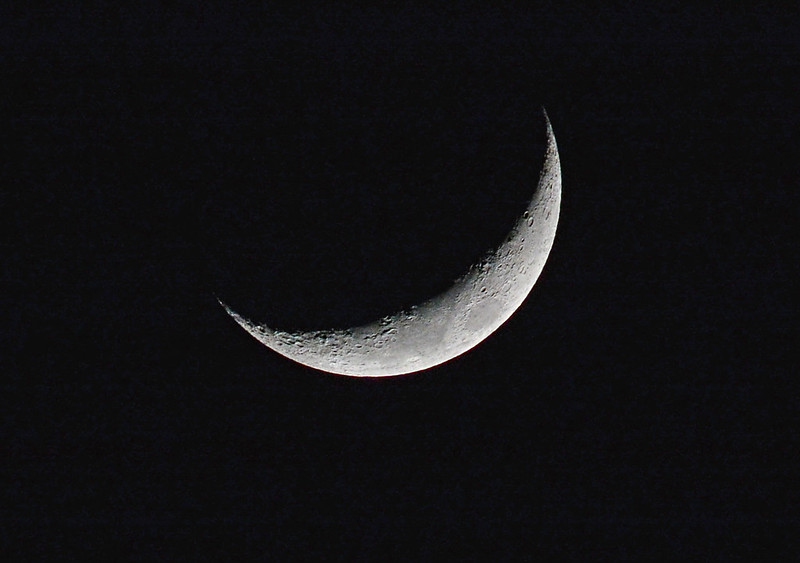crater: (461, 293, 510, 340), (476, 284, 493, 294), (525, 214, 537, 228)
